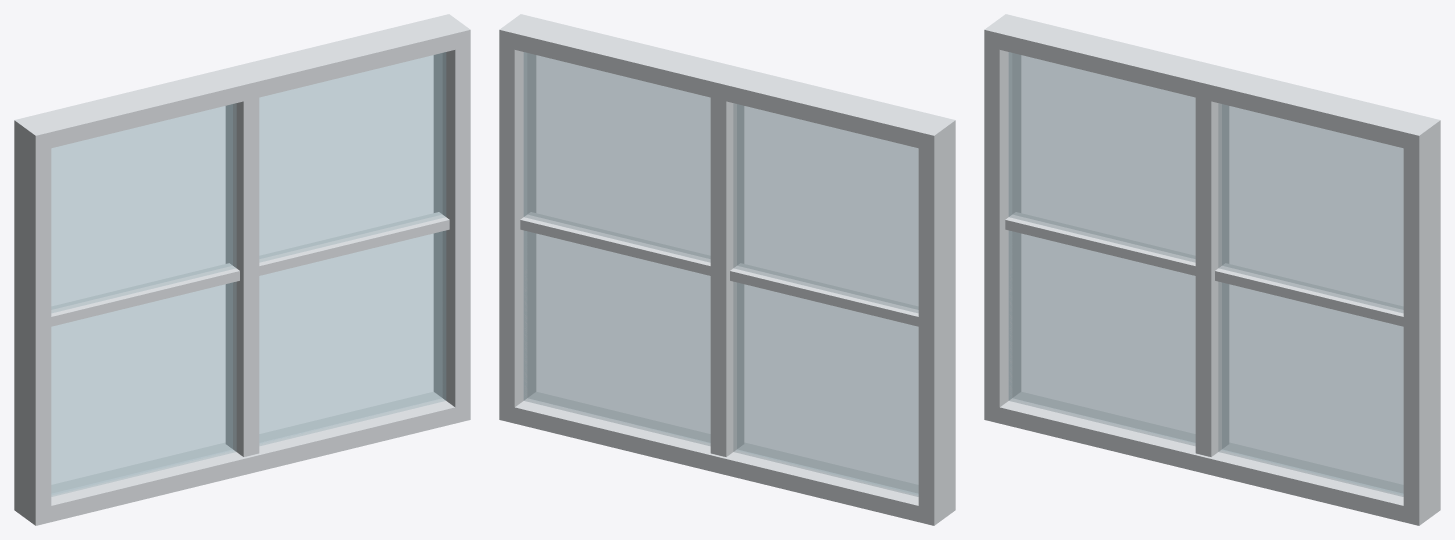
3 renders of one model, left to right at view 1: azimuth 30°, elevation 25°; view 2: azimuth 150°, elevation 25°; view 3: azimuth 330°, elevation 25°, orthographic.
Parts seen in each view (by area): view 1: glass, frame (×6); view 2: glass, frame (×6); view 3: glass, frame (×6).
Part boxes in pixels (<box>): glass: <box>51,52,446,496</box>; frame (×6): <box>14,14,470,525</box>; glass: <box>523,52,918,496</box>; frame (×6): <box>499,14,955,525</box>; glass: <box>1008,52,1403,496</box>; frame (×6): <box>984,14,1440,525</box>.
Size of the model in its own units: 1.4 by 1.2 by 0.12.
